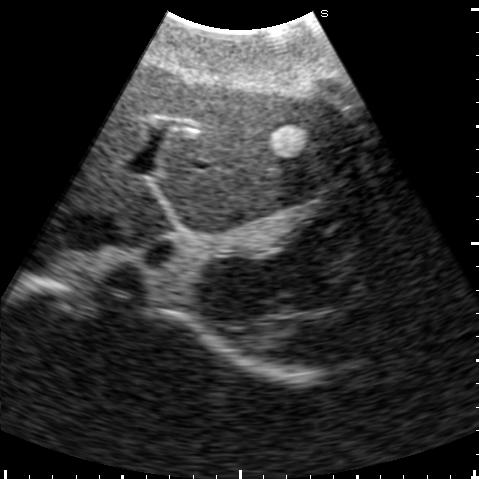IVC: (61, 210, 118, 251)
S1: (115, 179, 174, 248)
S2: (158, 140, 382, 233)
S3: (164, 83, 378, 194)
Tumor: (268, 125, 306, 159)
